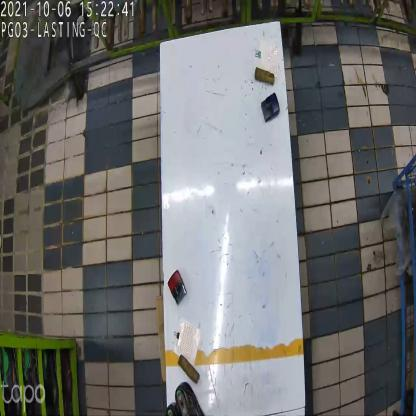stamp: (260, 91, 280, 125), (170, 270, 188, 303)
